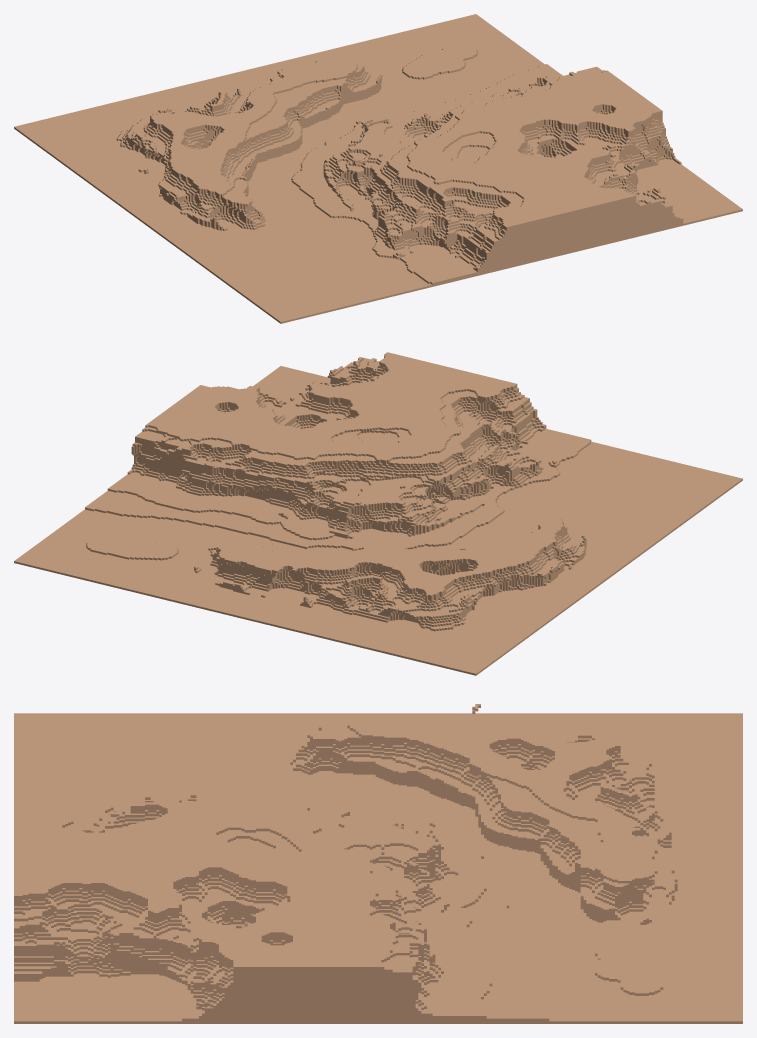
File: groundBorder_02.vox.obj
The picture shows the model from 3 angles, top to bottom: view 1: azimuth 30°, elevation 25°; view 2: azimuth 150°, elevation 25°; view 3: azimuth 270°, elevation 25°; orthographic projection. The views are drawn at different scales.
Bounding box in the file's own units: 25.6 × 2.2 × 25.6.
1 material, 1 textured.
